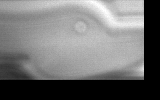cell: (71, 19, 88, 36)
